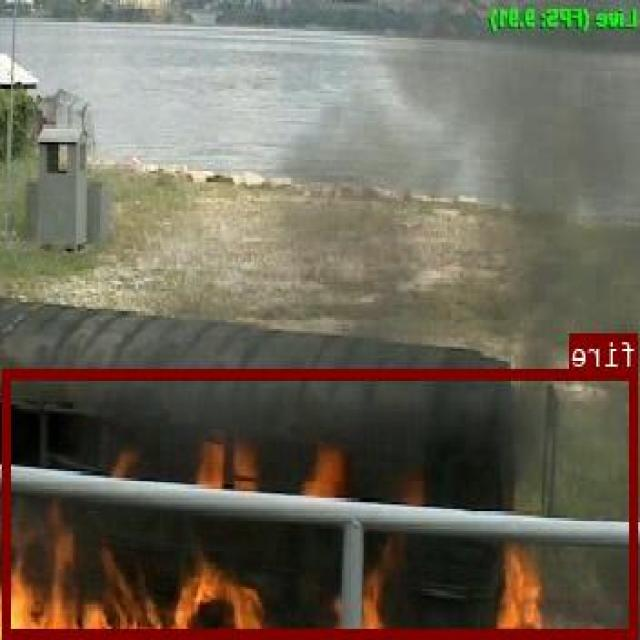fire: (5, 368, 640, 636)
